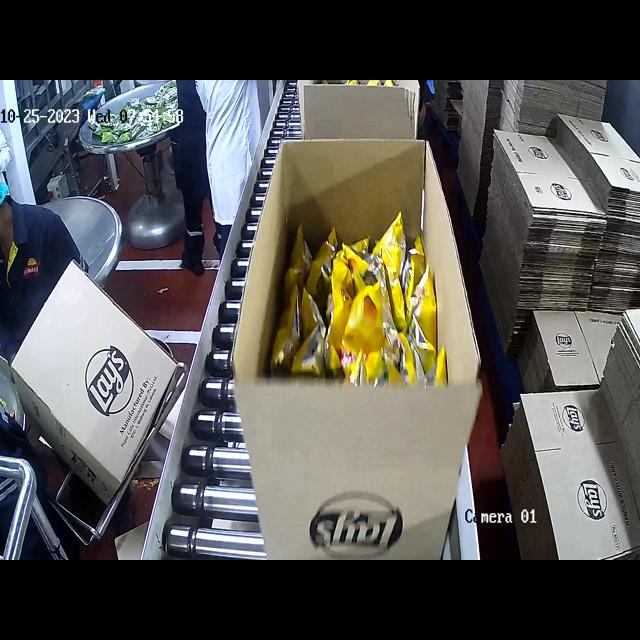salted: (295, 217, 453, 406)
